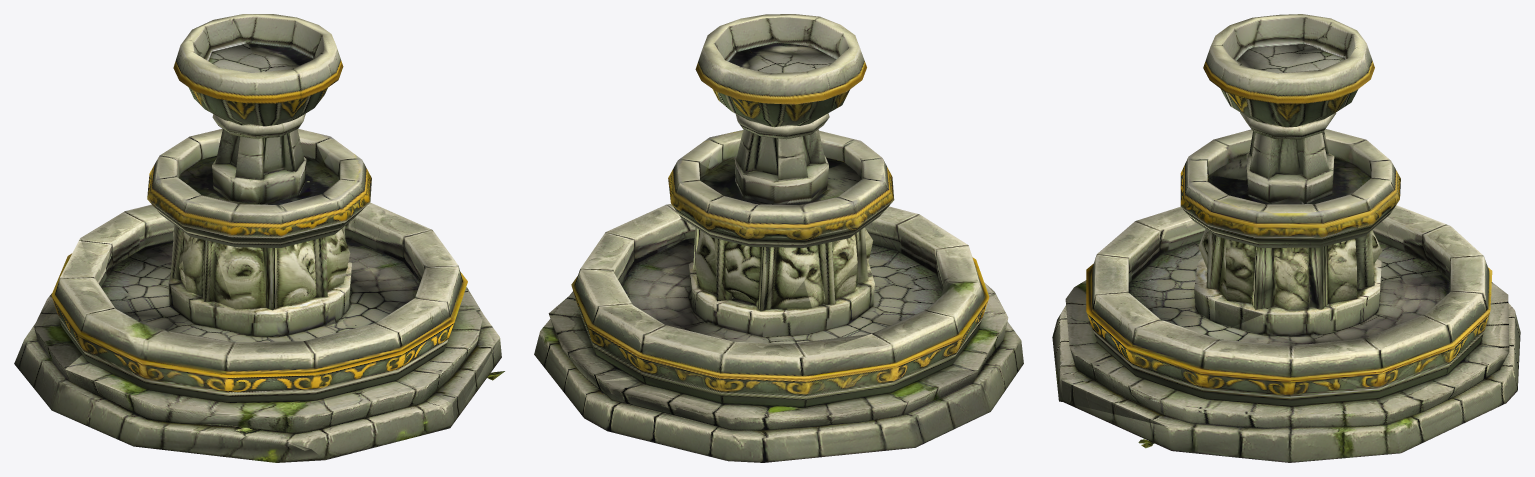
The model's file is Meshy_AI_Three_Tier_Stone_Foun_0724162740_texture.fbx.
The picture shows the model from 3 angles, left to right: view 1: azimuth 30°, elevation 25°; view 2: azimuth 150°, elevation 25°; view 3: azimuth 270°, elevation 25°; orthographic projection.
Parts seen in each view (by area): view 1: mesh_node; view 2: mesh_node; view 3: mesh_node.
Part boxes in pixels (left/top/right/bottom): mesh_node: left=14, top=14, right=504, bottom=462; mesh_node: left=534, top=14, right=1023, bottom=462; mesh_node: left=1052, top=14, right=1520, bottom=462.
Bounding box in the file's own units: 100 × 73.83 × 97.07.
Materials: 1 (1 with a texture image).
